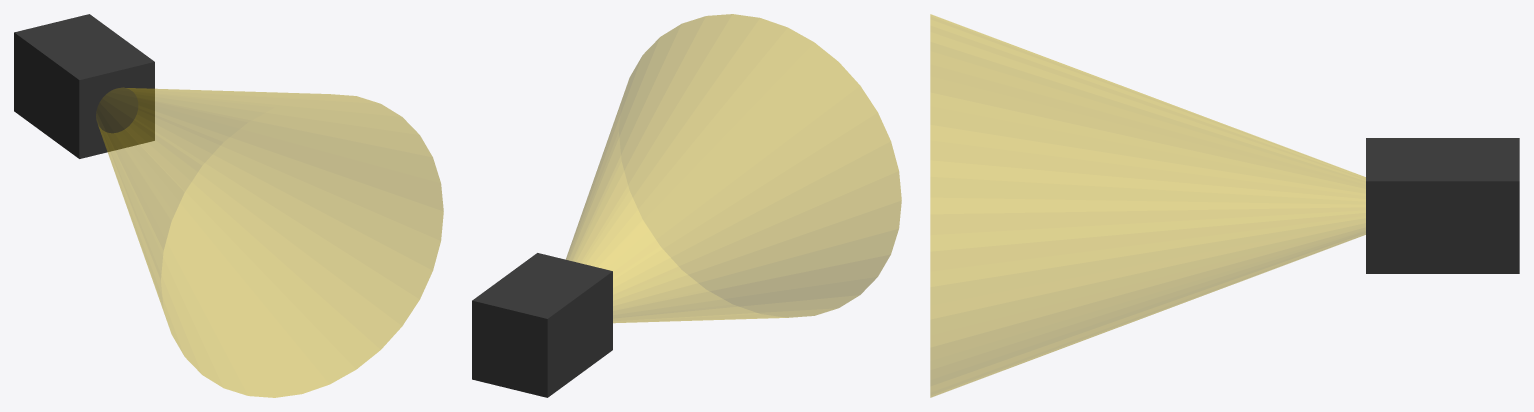
Rendered from spotlight.glb.
The picture shows the model from 3 angles, left to right: view 1: azimuth 30°, elevation 25°; view 2: azimuth 150°, elevation 25°; view 3: azimuth 270°, elevation 25°; orthographic projection. The views are drawn at different scales.
Visible parts, largest first — view 1: Cone, Cube; view 2: Cone, Cube; view 3: Cone, Cube.
Boxes of the visible parts, x1,y1,x2,y2 form: Cone: [96, 87, 443, 397]; Cube: [14, 14, 154, 158]; Cone: [566, 14, 901, 323]; Cube: [472, 253, 612, 397]; Cone: [930, 14, 1365, 397]; Cube: [1366, 138, 1519, 273].
Bounding box in the file's own units: 1.5 × 1.5 × 2.3.
